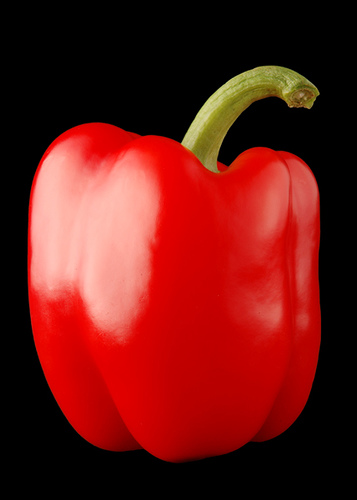capsicum: (23, 65, 325, 463)
